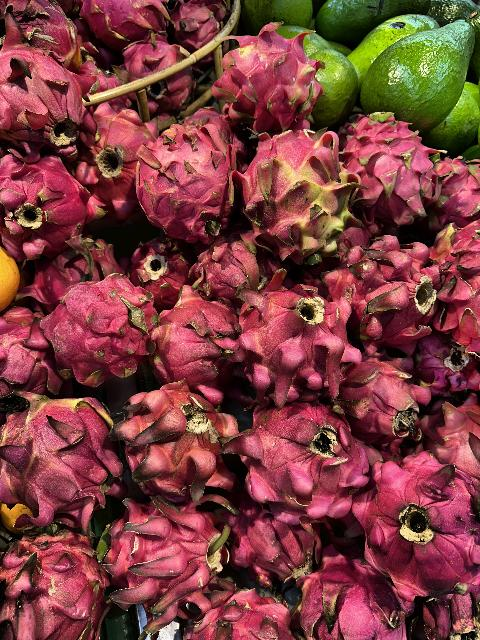buah-naga-belum-matang: (238, 132, 356, 264), (3, 388, 114, 520)
buah-naga-matang: (346, 438, 480, 594), (230, 394, 372, 520), (230, 272, 351, 403), (99, 494, 229, 614), (113, 378, 239, 492), (340, 96, 442, 232), (0, 20, 98, 152), (0, 140, 108, 256), (280, 540, 404, 640), (2, 524, 104, 640), (214, 34, 318, 132), (345, 243, 435, 344), (216, 501, 326, 583), (148, 290, 238, 390), (144, 132, 230, 235), (416, 218, 480, 352), (59, 290, 152, 380), (336, 352, 420, 444), (74, 112, 150, 204), (26, 228, 122, 300), (0, 306, 56, 398), (186, 232, 268, 294), (432, 140, 480, 228)
